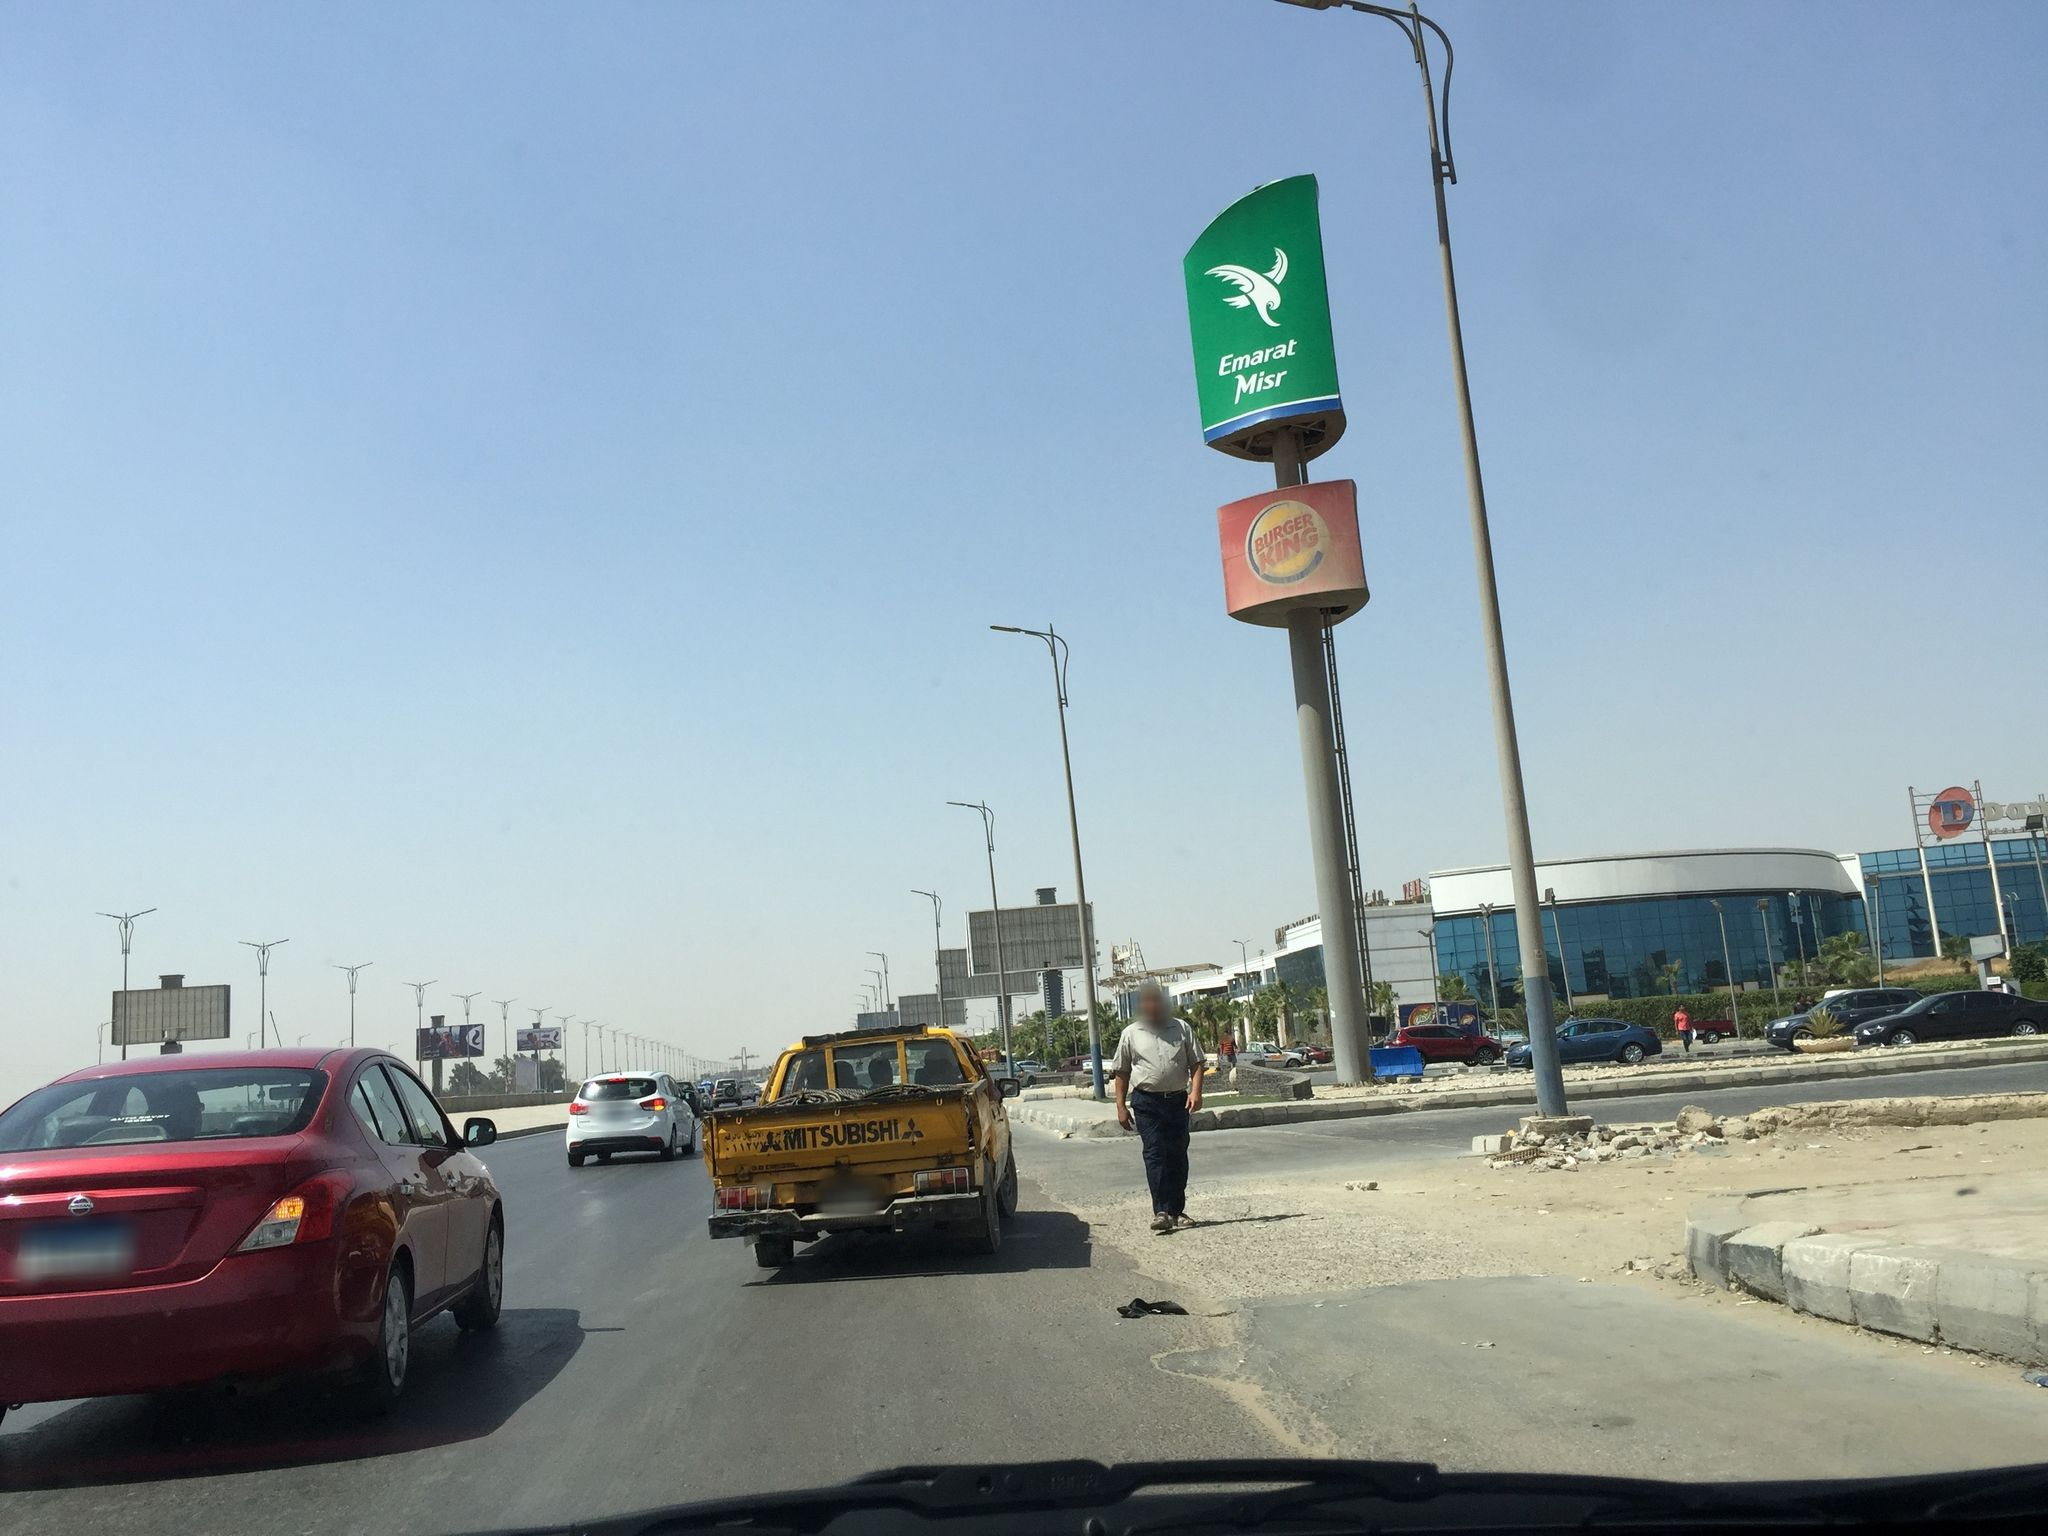car: (0, 1046, 513, 1413), (563, 1066, 697, 1167), (1851, 989, 2046, 1049), (1763, 987, 1922, 1049), (1505, 1016, 1663, 1066), (1384, 1021, 1505, 1066), (710, 1078, 743, 1108), (676, 1079, 703, 1117), (1292, 1046, 1334, 1063), (693, 1084, 714, 1110), (1014, 1058, 1047, 1073)
truck: (700, 1015, 1021, 1263), (1201, 1041, 1303, 1070)
